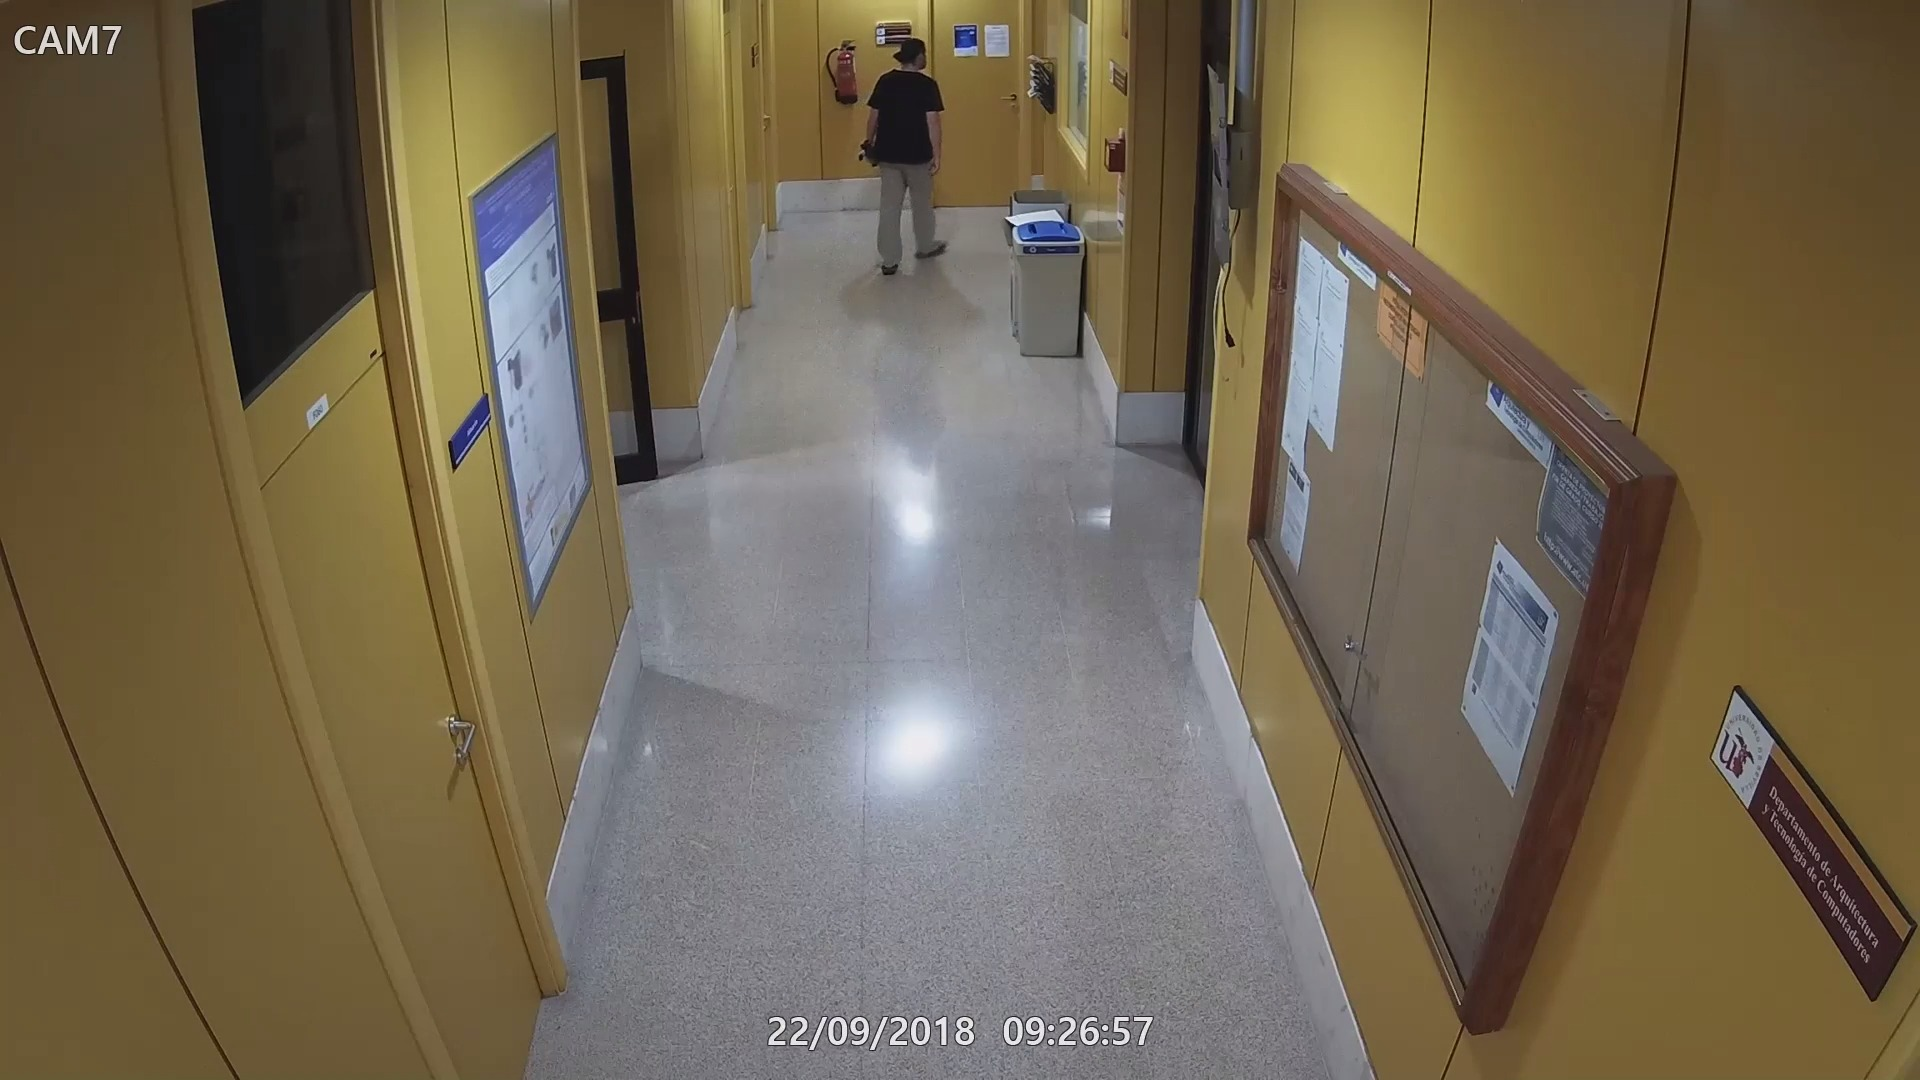Short_rifle: (852, 138, 880, 169)
